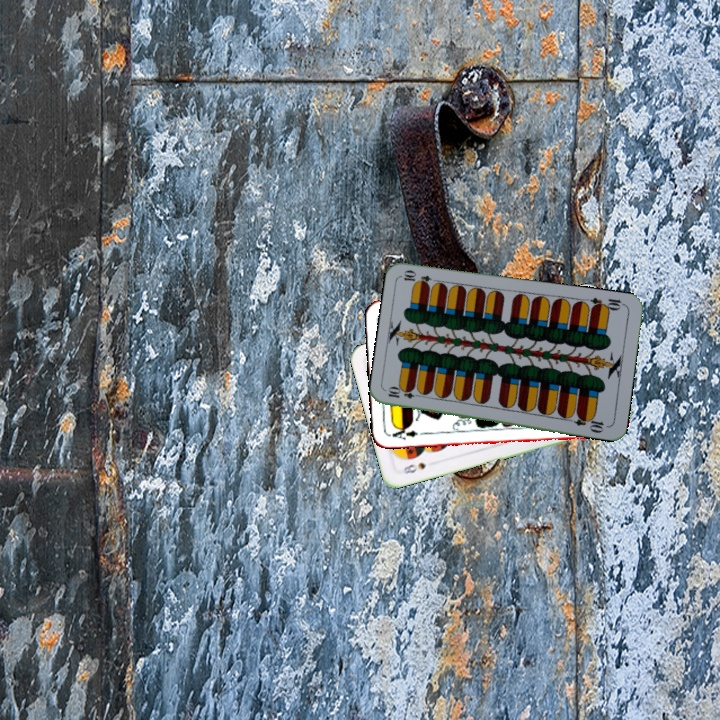E10: (587, 293, 627, 314), (384, 385, 425, 401)
EA: (385, 423, 420, 442)
S8: (399, 458, 429, 476)
